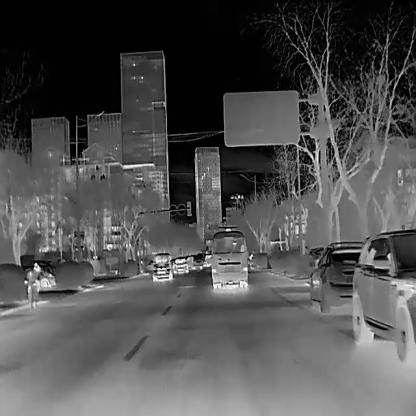bus: (211, 226, 247, 288)
car: (351, 229, 415, 362), (309, 239, 361, 313), (150, 251, 172, 280), (22, 265, 37, 307), (38, 266, 56, 288), (172, 254, 188, 272), (186, 254, 202, 271)
